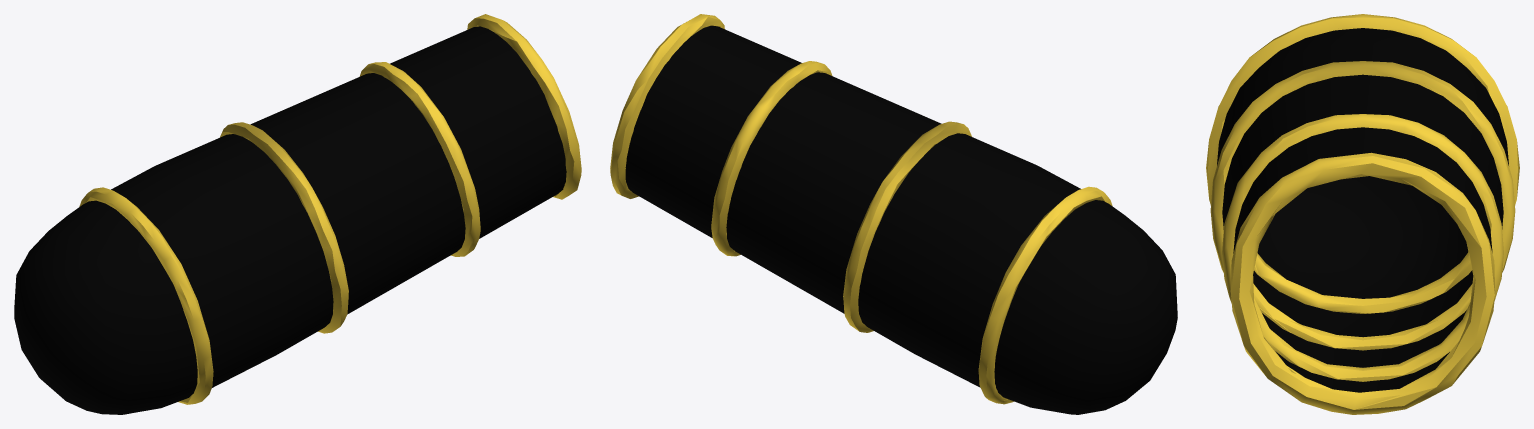
File: canonv3r.fbx
The picture shows the model from 3 angles, left to right: view 1: azimuth 30°, elevation 25°; view 2: azimuth 150°, elevation 25°; view 3: azimuth 270°, elevation 25°; orthographic projection. The views are drawn at different scales.
Visible parts, largest first — view 1: canonv3; view 2: canonv3; view 3: canonv3.
Part boxes in pixels (bbox=[...]): canonv3: bbox=[14, 14, 581, 414]; canonv3: bbox=[610, 14, 1177, 414]; canonv3: bbox=[1206, 14, 1519, 414].
Size of the model in its own units: 589 by 312 by 230.
1 material, 1 textured.
